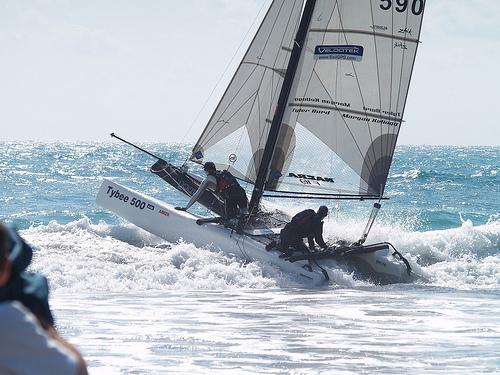Ship: (97, 1, 427, 291)
